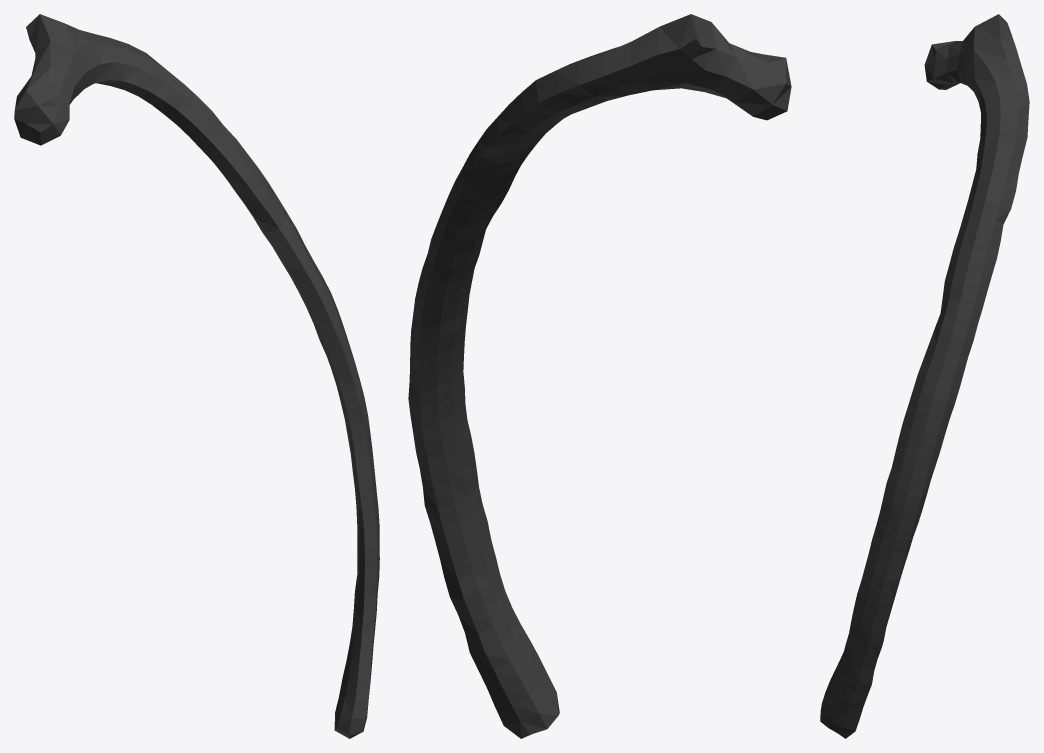
File: Rib_4.glb
The picture shows the model from 3 angles, left to right: view 1: azimuth 30°, elevation 25°; view 2: azimuth 150°, elevation 25°; view 3: azimuth 270°, elevation 25°; orthographic projection. The views are drawn at different scales.
Parts seen in each view (by area): view 1: Rib_4; view 2: Rib_4; view 3: Rib_4.
Boxes of the visible parts, x1=… form: Rib_4: x1=14, y1=14, x2=379, y2=738; Rib_4: x1=408, y1=14, x2=791, y2=738; Rib_4: x1=820, y1=14, x2=1029, y2=738.
Size of the model in its own units: 3.64 by 7.56 by 2.29.
1 material, 1 textured.
